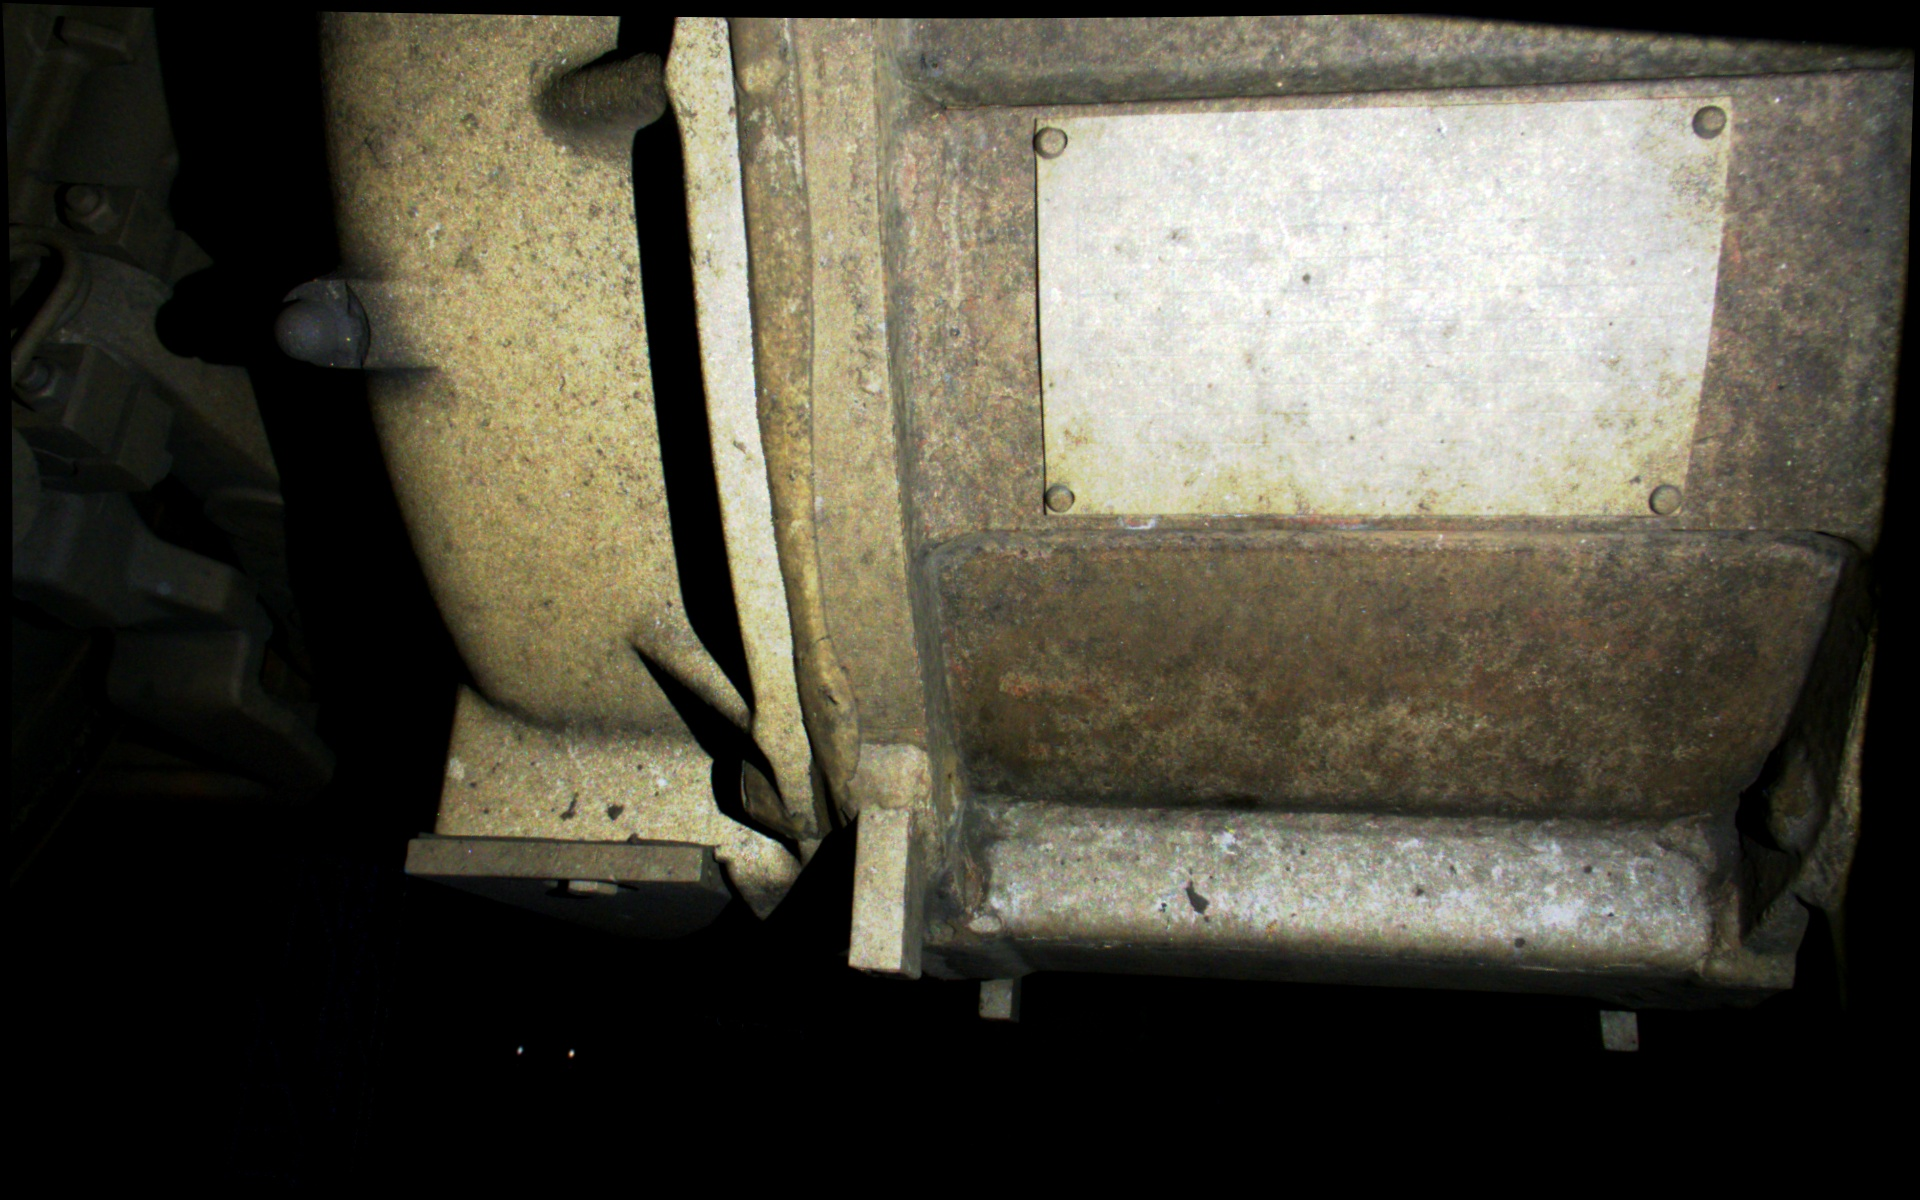bolthead1: (1030, 120, 1073, 169)
bolthead2: (1686, 100, 1728, 147)
bolthead3: (1039, 477, 1078, 516)
bolthead4: (1644, 478, 1688, 520)
namespace: (1028, 102, 1726, 523)
